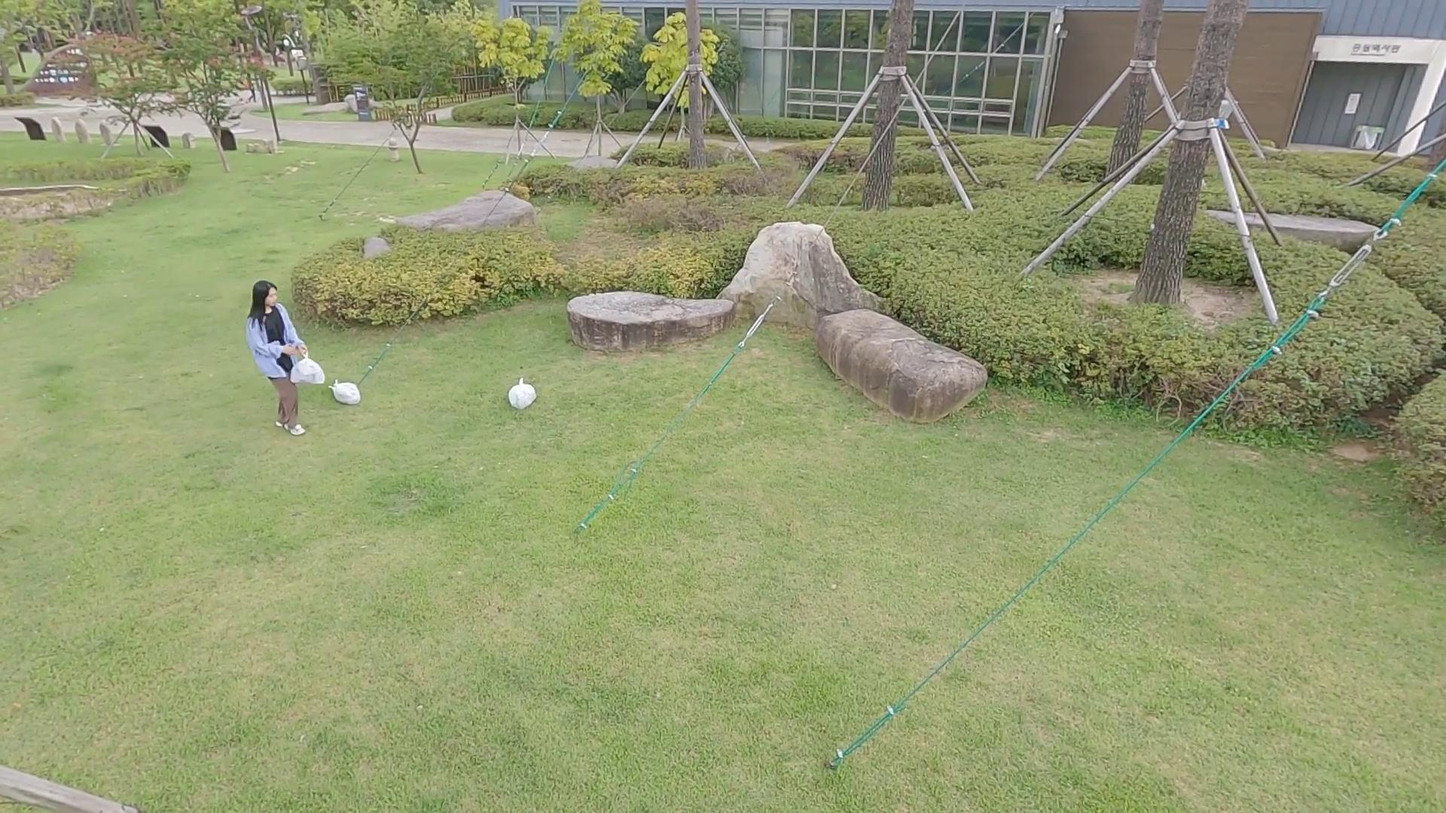person: (237, 274, 319, 435)
trash: (288, 354, 328, 392), (505, 375, 539, 412), (325, 378, 364, 410)
